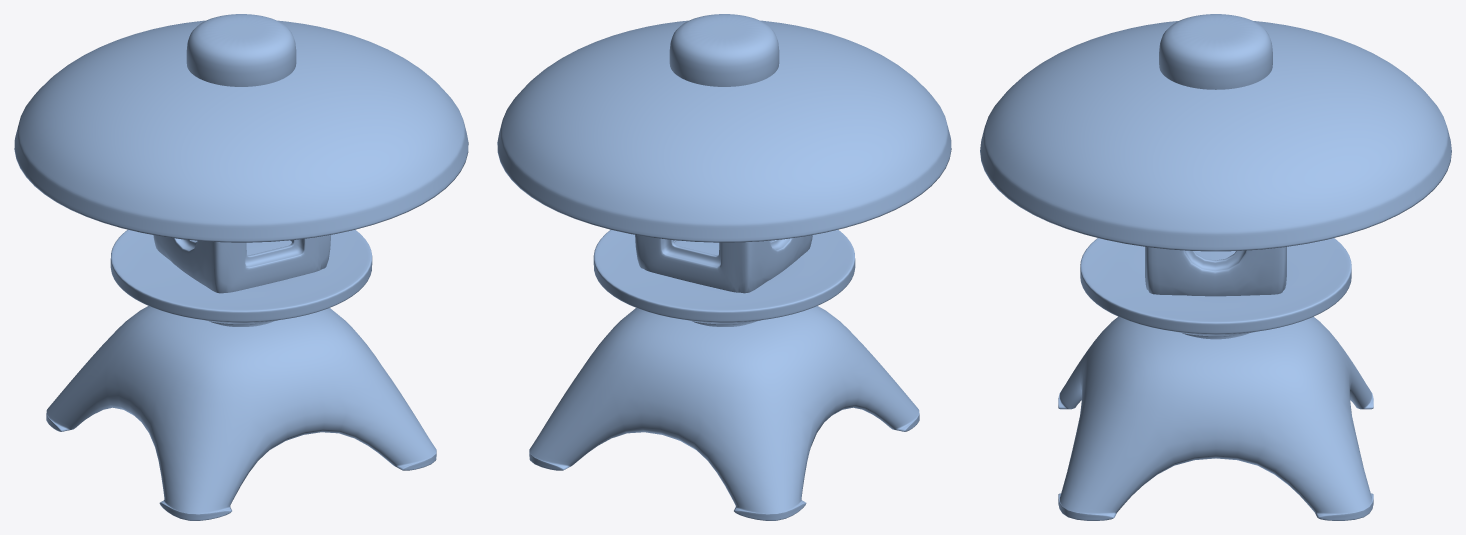
The model's file is StoneLamp.fbx.
3 views of the same model, side by side, from view 1: azimuth 30°, elevation 25°; view 2: azimuth 150°, elevation 25°; view 3: azimuth 270°, elevation 25° (orthographic). The views are drawn at different scales.
Visible parts, largest first — view 1: Stone Lamp; view 2: Stone Lamp; view 3: Stone Lamp.
Part boxes in pixels (x1=…): Stone Lamp: x1=14, y1=14, x2=468, y2=520; Stone Lamp: x1=497, y1=14, x2=951, y2=520; Stone Lamp: x1=980, y1=14, x2=1451, y2=520.
Size of the model in its own units: 15.69 by 15.58 by 15.69.
